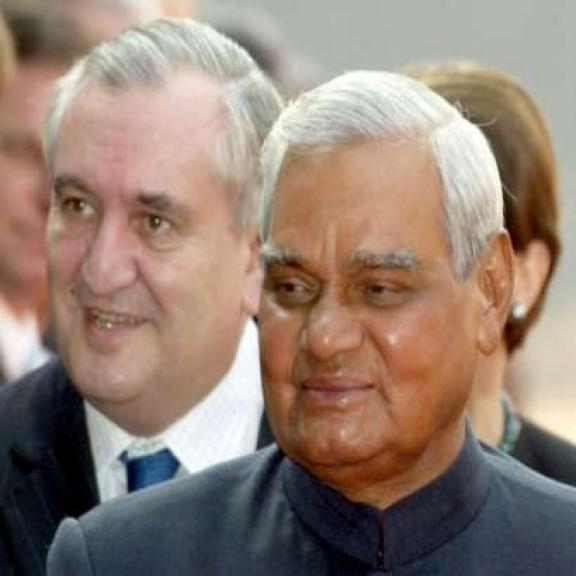face: (258, 130, 520, 474), (44, 71, 264, 403)
